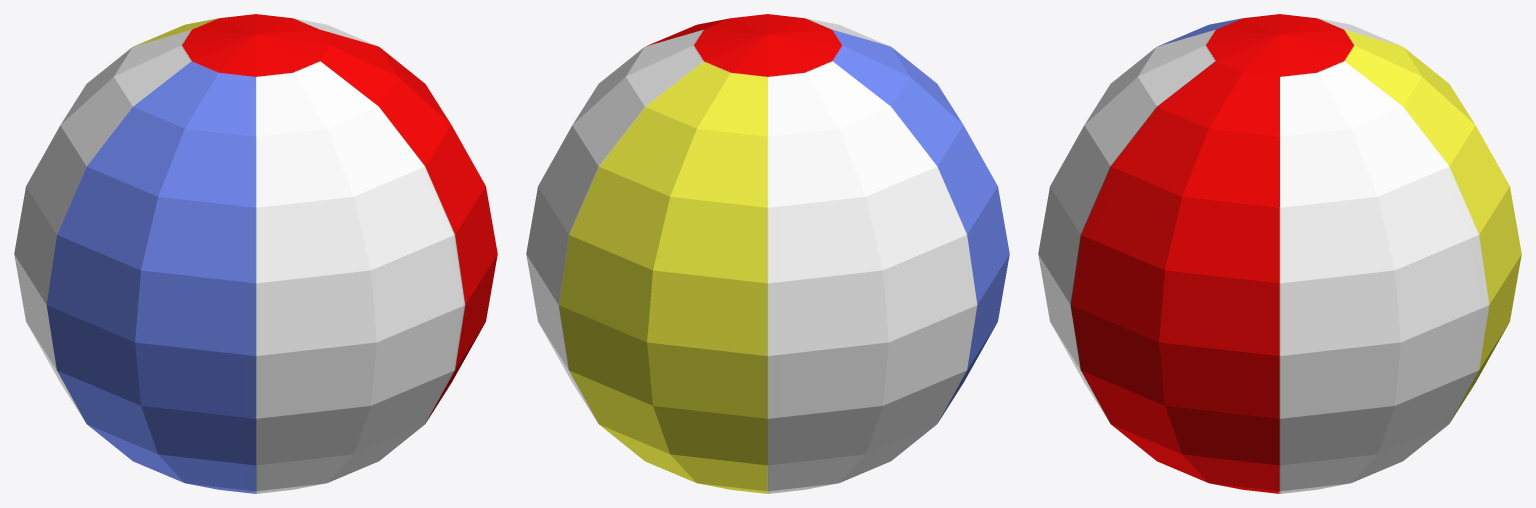
The picture shows the model from 3 angles, left to right: view 1: azimuth 30°, elevation 25°; view 2: azimuth 150°, elevation 25°; view 3: azimuth 270°, elevation 25°; orthographic projection.
Visible parts, largest first — view 1: Beach Ball; view 2: Beach Ball; view 3: Beach Ball.
Boxes of the visible parts, x1,y1,x2,y2 form: Beach Ball: (14, 14, 497, 493); Beach Ball: (526, 14, 1009, 493); Beach Ball: (1038, 14, 1521, 493).
Bounding box in the file's own units: 0.4 × 0.4 × 0.4.
1 material, 1 textured.
